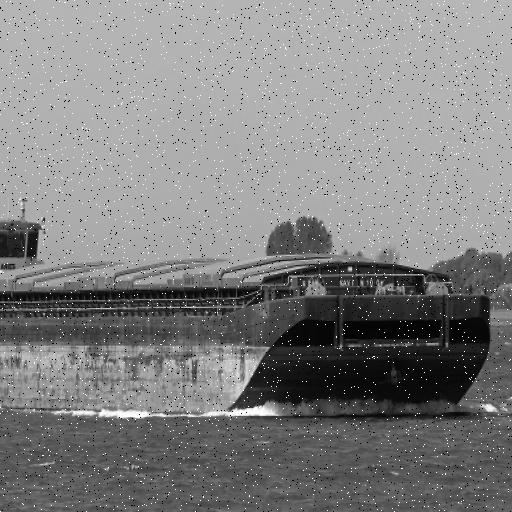tugboat: (1, 200, 74, 426)
